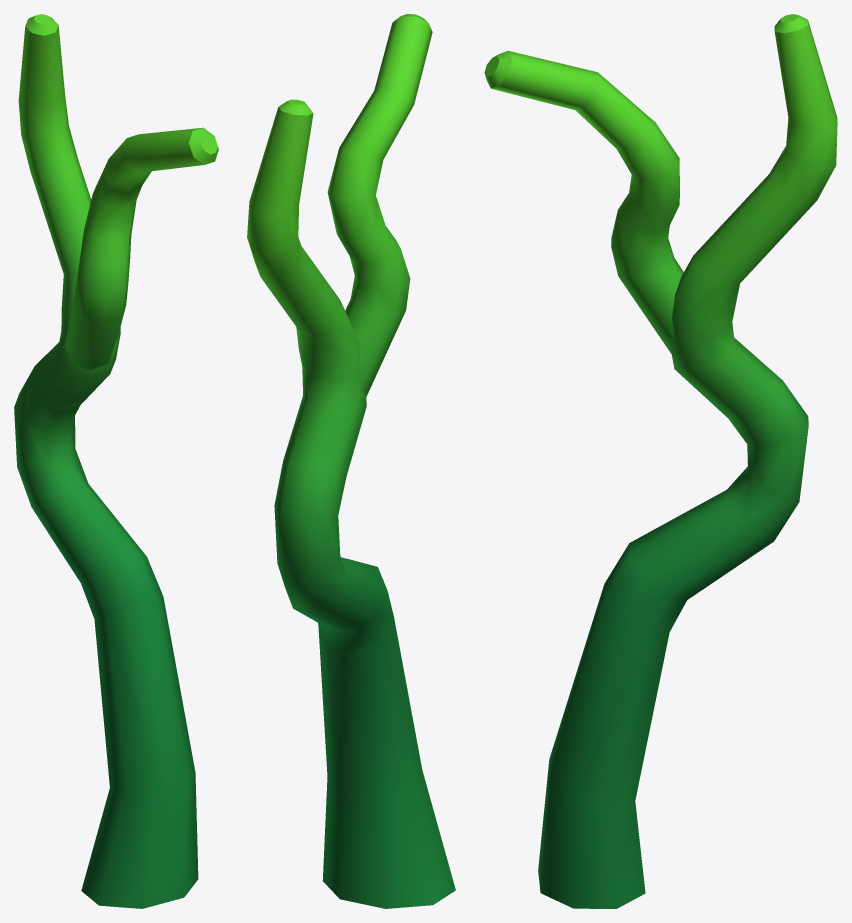
File: Vine_1_1.obj
The picture shows the model from 3 angles, left to right: view 1: azimuth 30°, elevation 25°; view 2: azimuth 150°, elevation 25°; view 3: azimuth 270°, elevation 25°; orthographic projection. The views are drawn at different scales.
Visible parts, largest first — view 1: Vine_1_1; view 2: Vine_1_1; view 3: Vine_1_1.
Boxes of the visible parts, x1,y1,x2,y2 form: Vine_1_1: (14, 14, 218, 908); Vine_1_1: (247, 14, 455, 908); Vine_1_1: (484, 14, 837, 908).
Bounding box in the file's own units: 0.1133 × 0.8501 × 0.3151.
